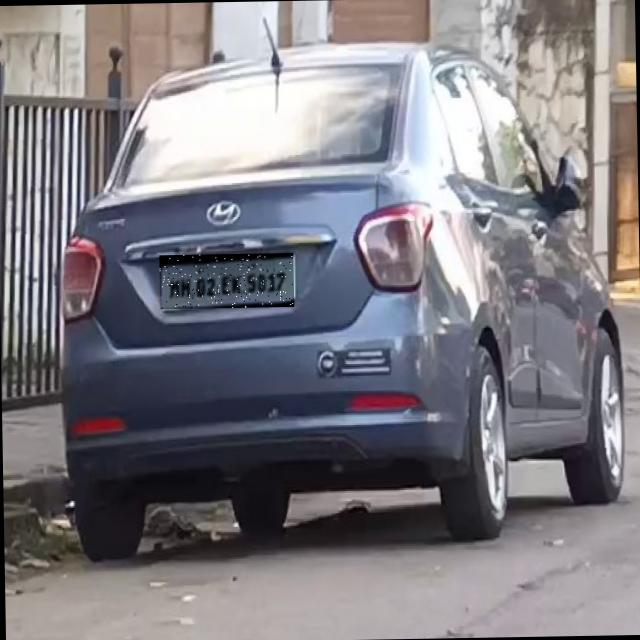Plate: (160, 254, 295, 310)
